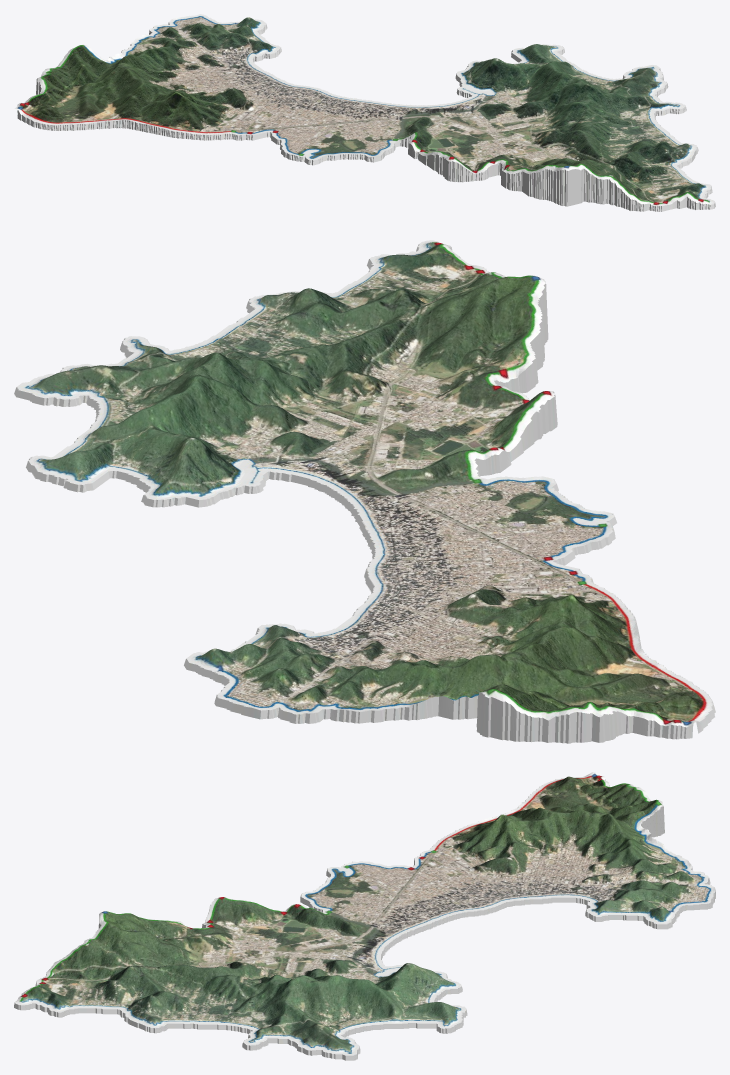
The picture shows the model from 3 angles, top to bottom: view 1: azimuth 30°, elevation 25°; view 2: azimuth 150°, elevation 25°; view 3: azimuth 270°, elevation 25°; orthographic projection. The views are drawn at different scales.
Size of the model in its own units: 1 by 0.0672 by 1.06.
Materials: 1 (1 with a texture image).
